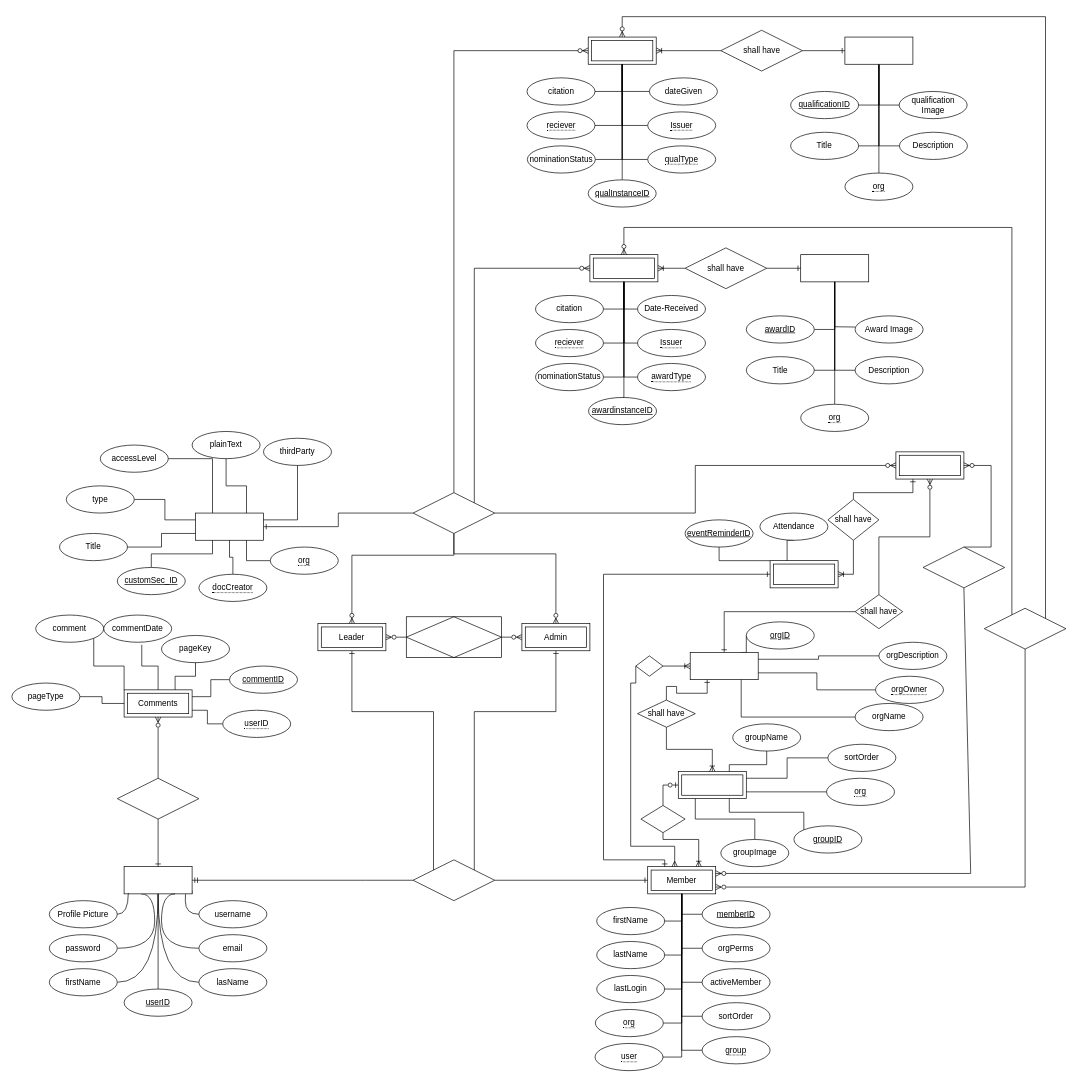
This 1078x1083 diagram has some shape labels left out. Here are the shapes that lost their labels. From the top down, the box of each, then its label:
(588, 36, 656, 64): Qualification Instance
(844, 36, 913, 64): Qualification Type
(589, 254, 658, 282): Award Instance
(800, 254, 869, 282): Award Type
(895, 451, 964, 479): Events
(195, 512, 264, 540): Custom section
(412, 492, 495, 533): Creates
(769, 560, 838, 588): Event reminder
(922, 546, 1005, 588): can join
(406, 616, 502, 658): Permissions
(984, 608, 1066, 649): can recieve
(635, 655, 663, 676): has
(690, 652, 758, 680): Organization
(117, 778, 199, 819): can make
(678, 771, 746, 799): Groups
(640, 805, 685, 833): can have
(123, 866, 192, 894): Registered Users
(412, 859, 495, 901): ISA
